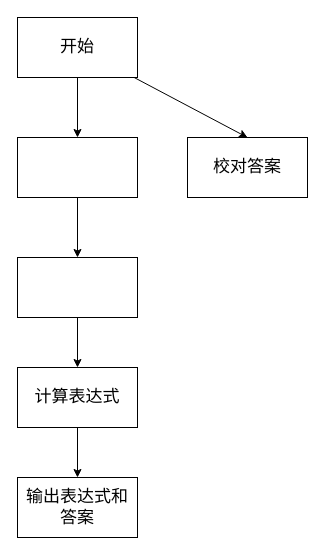
The diagram is 325 pixels wide and 555 high, and some of its shapes have lost their labels. Here are the shapes that lost their labels. From the top down, the centre of each, then its label:
point 77,167: 生成表达式
point 77,287: 表达式检查
